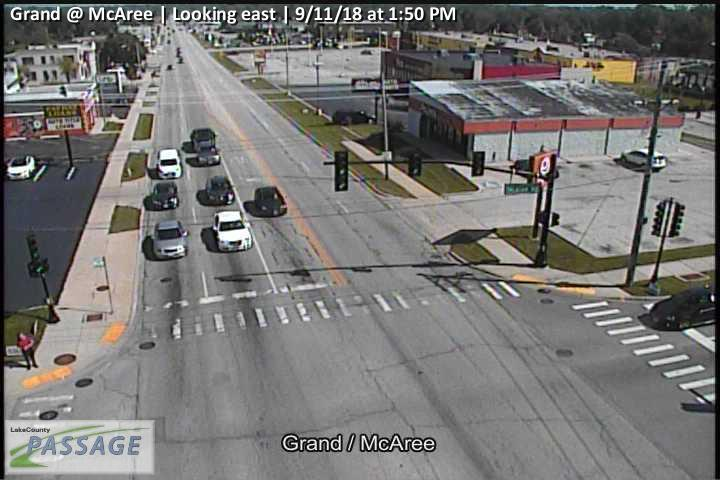SUV: (157, 148, 182, 177), (332, 109, 375, 124)
Sedan: (647, 289, 716, 331), (213, 210, 252, 251), (152, 220, 187, 258), (255, 185, 287, 216), (620, 150, 666, 170), (207, 175, 234, 204), (152, 182, 178, 208), (6, 156, 35, 179), (191, 127, 215, 148), (198, 148, 219, 165)
